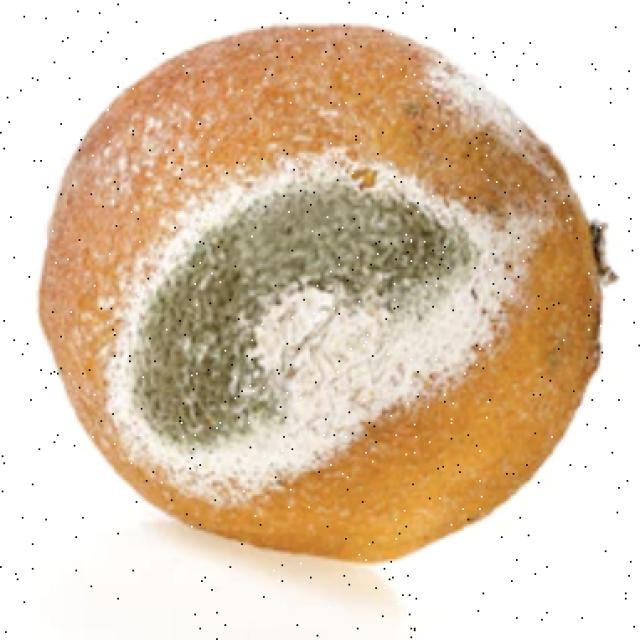Organik: (0, 6, 616, 594)
